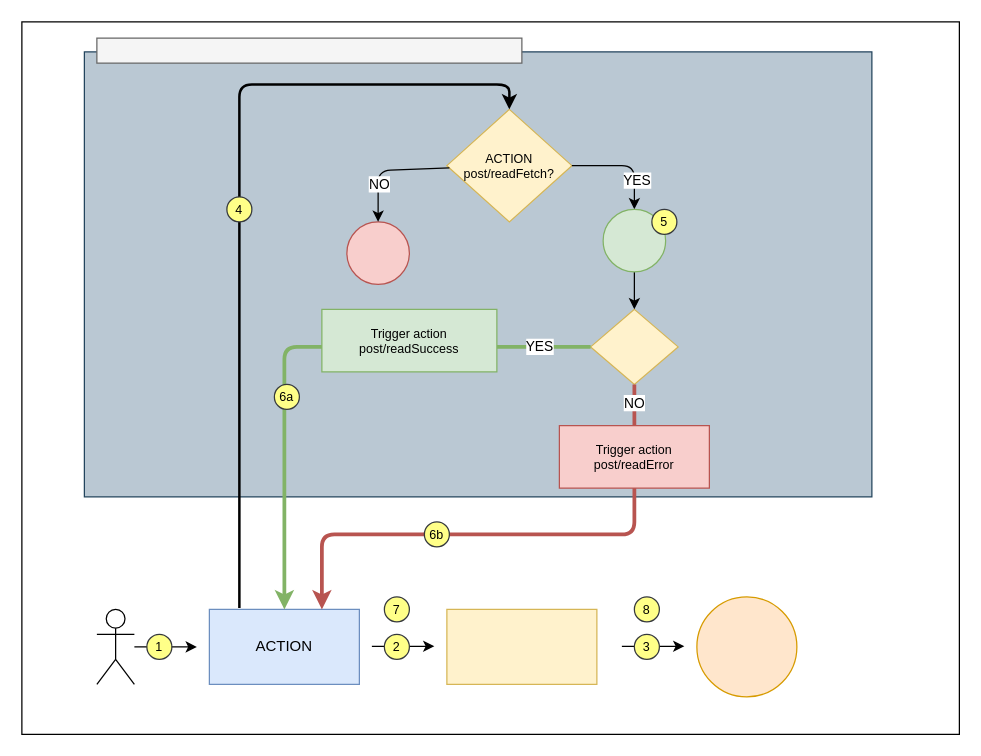
Image size: 981x756. Some labels were removed from this diagram. The box of each missing label's shape, as (x1, y1, x2, y2) in pixels:
api call: (602, 208, 666, 272)
Api call succedeed?: (589, 308, 678, 384)
do nothing: (346, 221, 409, 284)
REDUCER: (446, 608, 597, 684)
REDUX-OBSERVABLE PART MANAGED BY THE LIBRARY: (96, 37, 522, 63)
STATE: (696, 596, 797, 697)
User: (96, 608, 134, 684)
